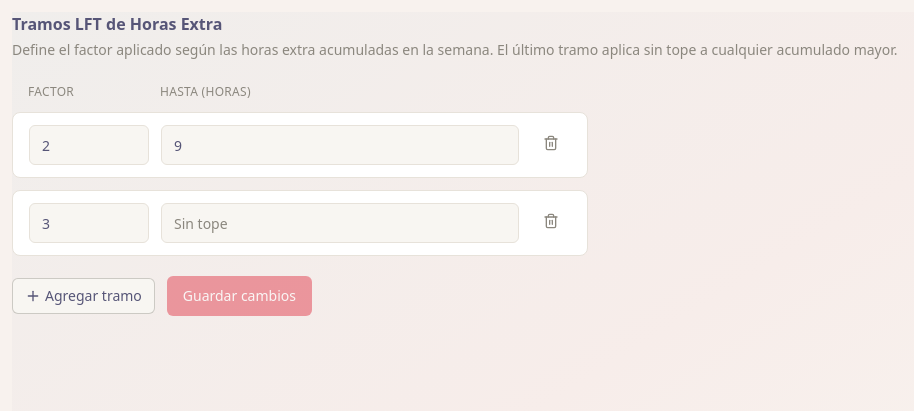
Test case: OvertimeLftTiersSection › adds a new row when "Agregar tramo" is clicked
The width and height of the screenshot is (914, 411).
Expected: the number of buttons named "Eliminar tramo" is 2, [543, 135, 559, 151]; [543, 213, 559, 229]
Step 1. Click the button "Agregar tramo" → (83, 296), box [12, 278, 155, 314]
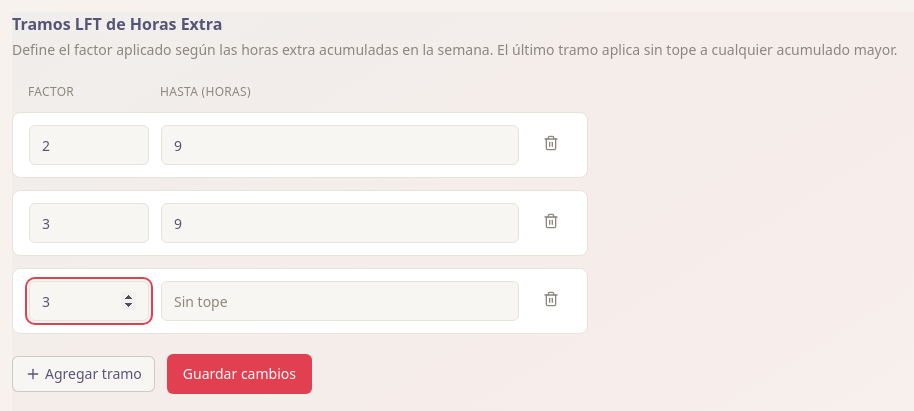
Expected: the number of buttons named "Eliminar tramo" is 3, [543, 135, 559, 151]; [543, 213, 559, 229]; [543, 291, 559, 307]
